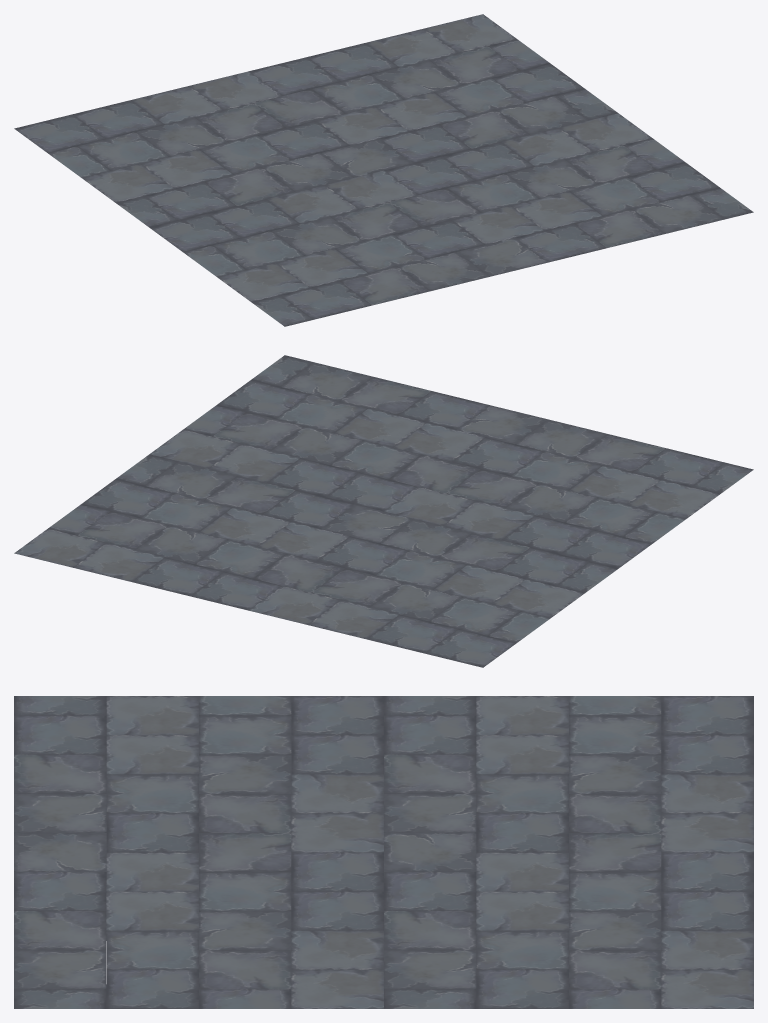
File: Castle Ground X Bright 8x8.fbx
3 views of the same model, one above another, from view 1: azimuth 30°, elevation 25°; view 2: azimuth 150°, elevation 25°; view 3: azimuth 270°, elevation 25° (orthographic). The views are drawn at different scales.
Visible parts, largest first — view 1: Castle Ground X Bright 8x8; view 2: Castle Ground X Bright 8x8; view 3: Castle Ground X Bright 8x8.
Part boxes in pixels (left/top/right/bottom): Castle Ground X Bright 8x8: left=14, top=14, right=753, bottom=326; Castle Ground X Bright 8x8: left=14, top=355, right=753, bottom=667; Castle Ground X Bright 8x8: left=14, top=696, right=753, bottom=1008.
Bounding box in the file's own units: 6 × 8.05e-07 × 6.
